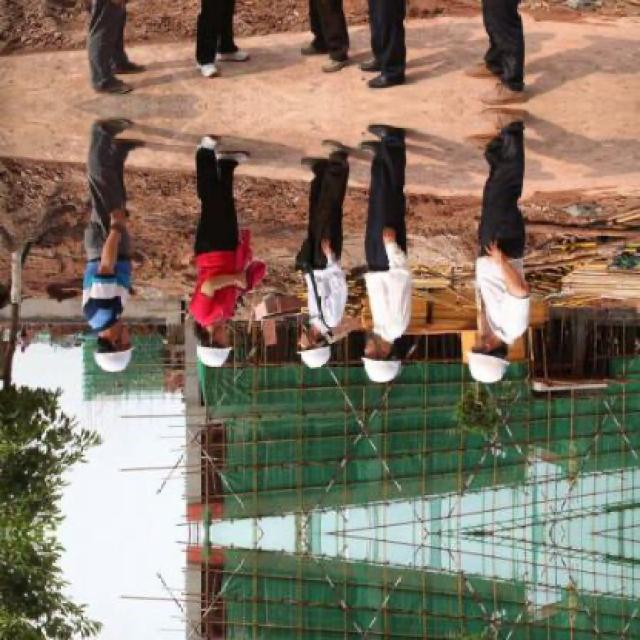con casco: (422, 311, 555, 398), (55, 308, 154, 377), (347, 311, 421, 398), (181, 313, 267, 377), (301, 312, 350, 371)
